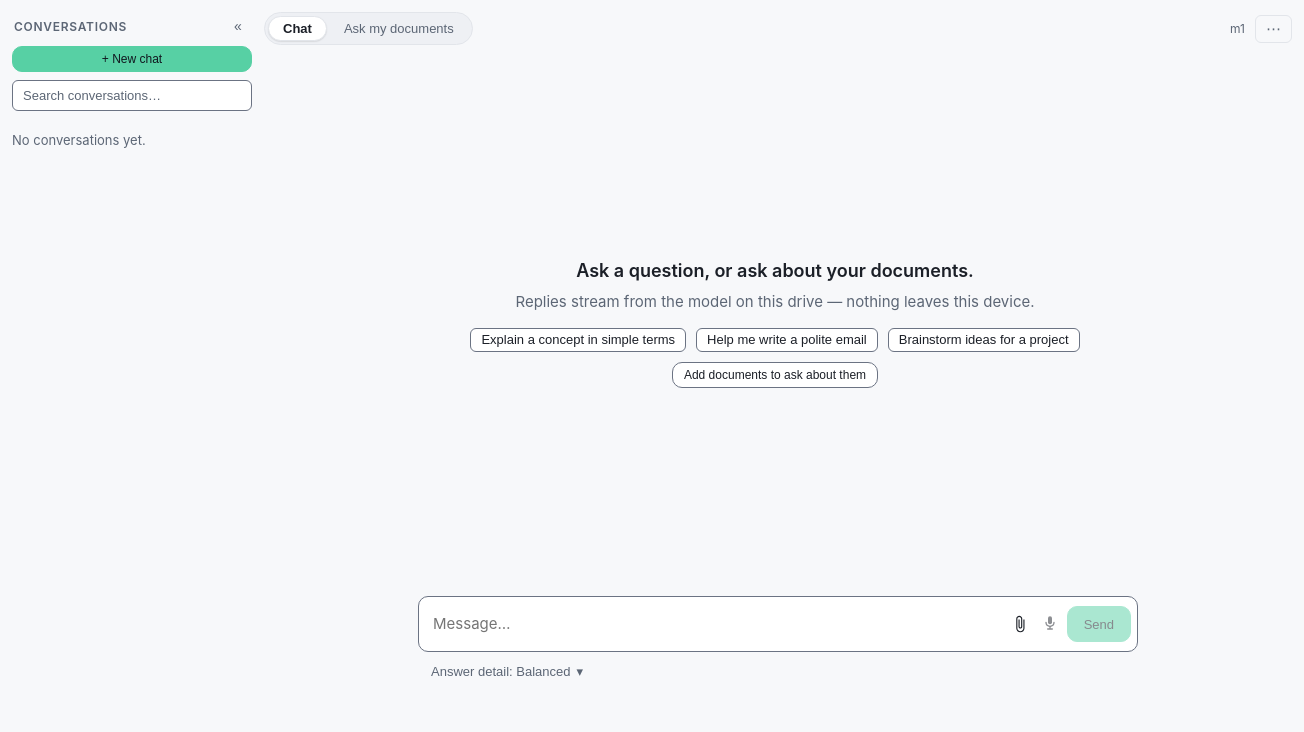
the "not installed" hint names the missing piece (#527) › ChatScreen reads the cause from the app status and re-reads it on focus
This screenshot has width=1304, height=732.
Click the button named "Voice dictation is not installed on this drive".
click(1050, 624)  # box x1=1037 y1=606 x2=1063 y2=642
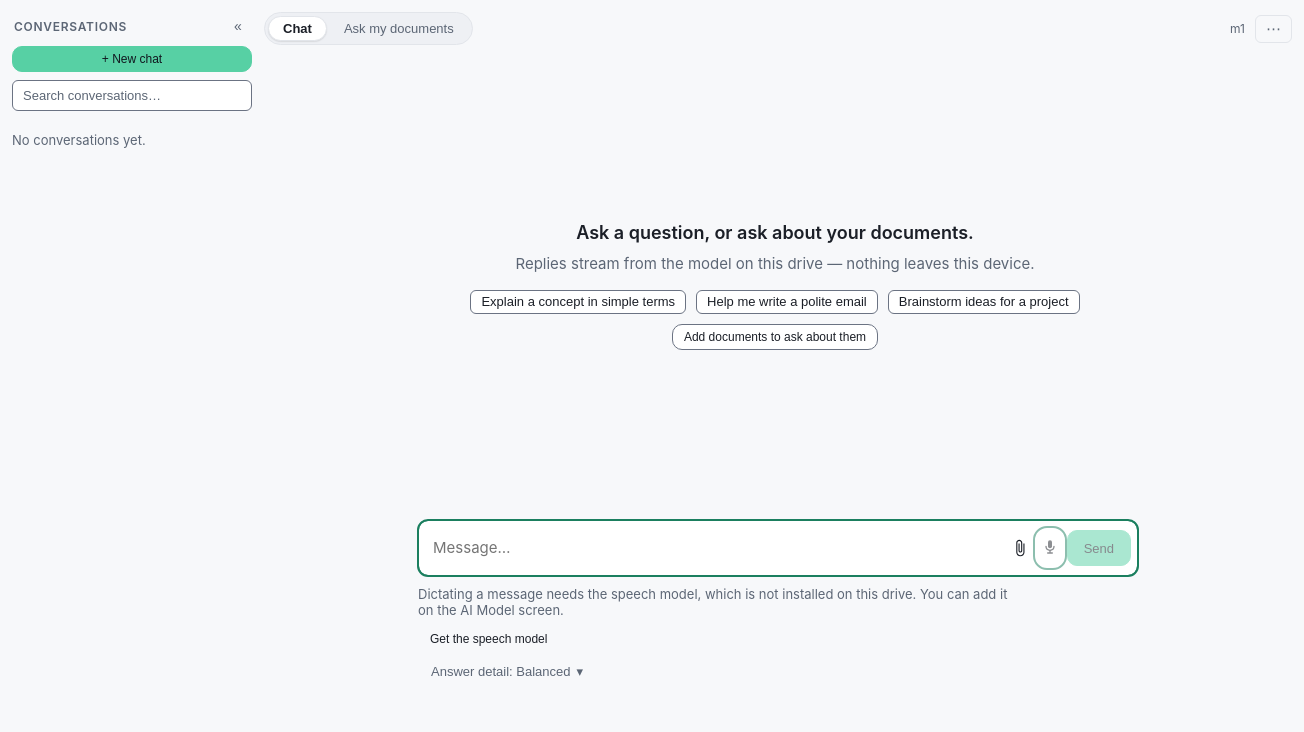
Expected: the text "Dictating a message needs the speech model and the voice engine, which are not on this drive yet. You can add both on th" is shown, x1=418 y1=586 x2=1008 y2=652
Expected: the text "Dictating a message needs the speech model, which is not installed on this drive. You can add it on the AI Model screen." is shown, x1=418 y1=586 x2=1007 y2=618
